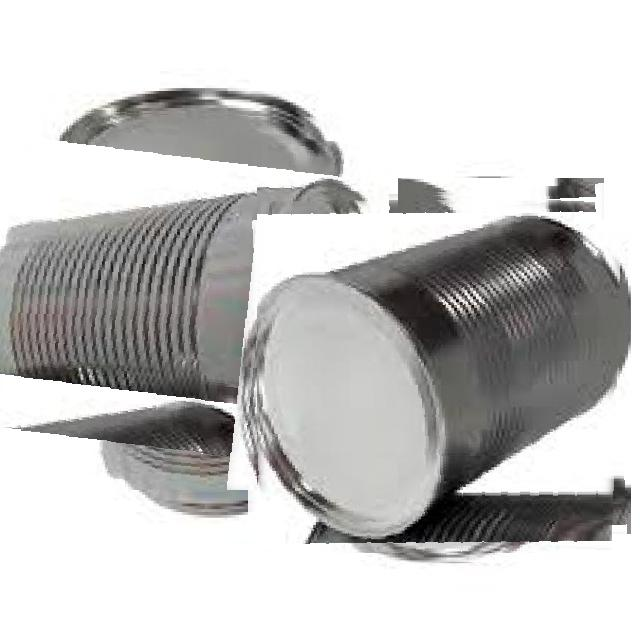recyclable: (0, 110, 371, 490), (257, 187, 622, 553)
